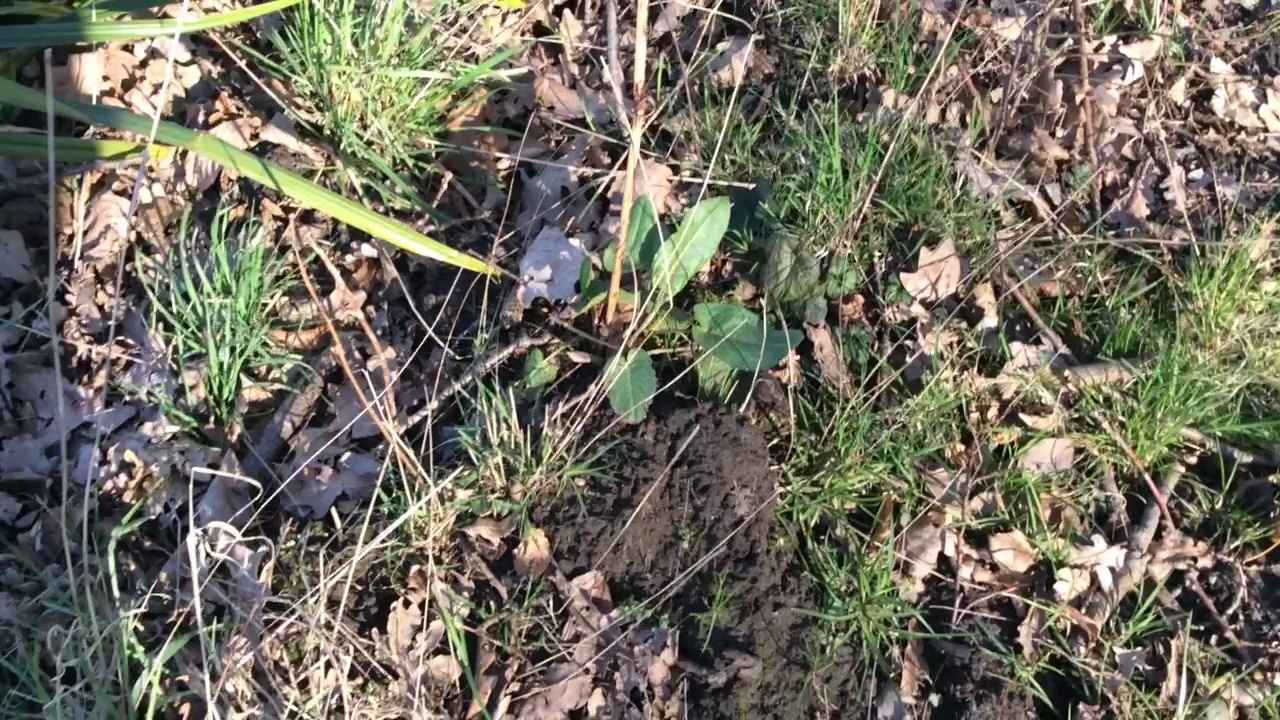rumex: (526, 197, 802, 423)
